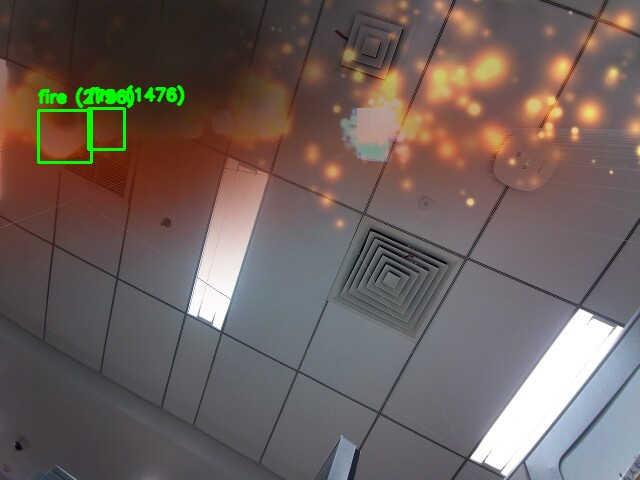fire: (38, 110, 91, 162), (88, 108, 124, 149)
